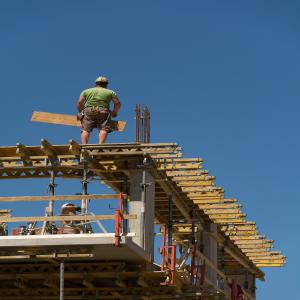white: (62, 204, 78, 214)
yellow: (95, 77, 109, 89)
